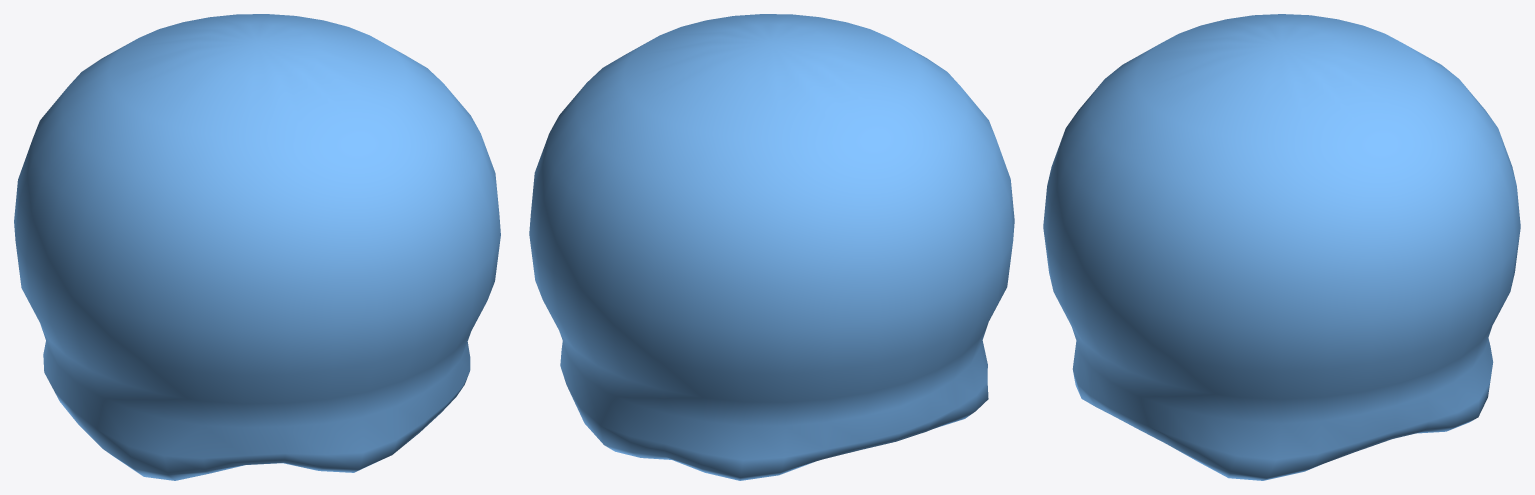
Rendered from Ice Cream Melted Blue.fbx.
The picture shows the model from 3 angles, left to right: view 1: azimuth 30°, elevation 25°; view 2: azimuth 150°, elevation 25°; view 3: azimuth 270°, elevation 25°; orthographic projection. The views are drawn at different scales.
Visible parts, largest first — view 1: Ice Cream Melted Blue; view 2: Ice Cream Melted Blue; view 3: Ice Cream Melted Blue.
Boxes of the visible parts, x1=… form: Ice Cream Melted Blue: x1=14, y1=14, x2=500, y2=480; Ice Cream Melted Blue: x1=529, y1=14, x2=1014, y2=480; Ice Cream Melted Blue: x1=1043, y1=14, x2=1520, y2=480.
Size of the model in its own units: 0.4884 by 0.3979 by 0.4884.
